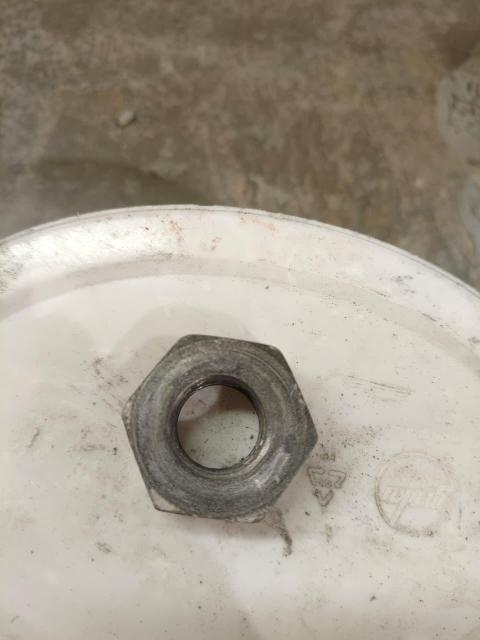Metal: (122, 334, 319, 523)
